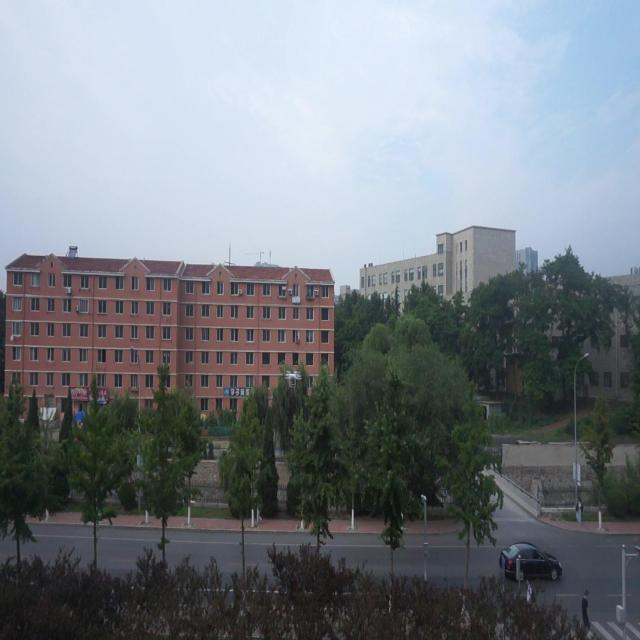UAV: (284, 370, 302, 388)
